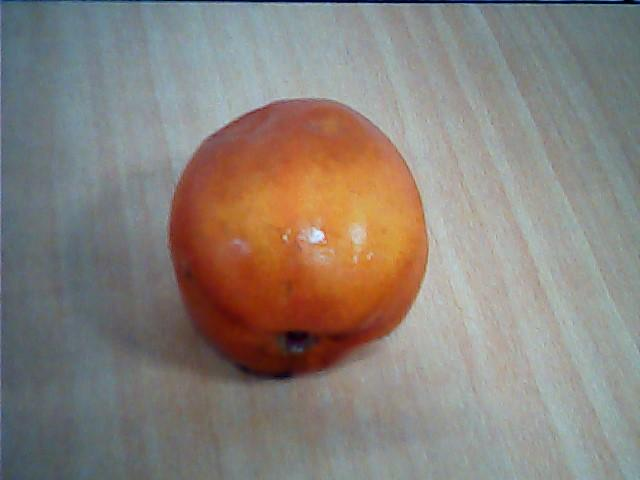verde: (167, 92, 428, 382)
